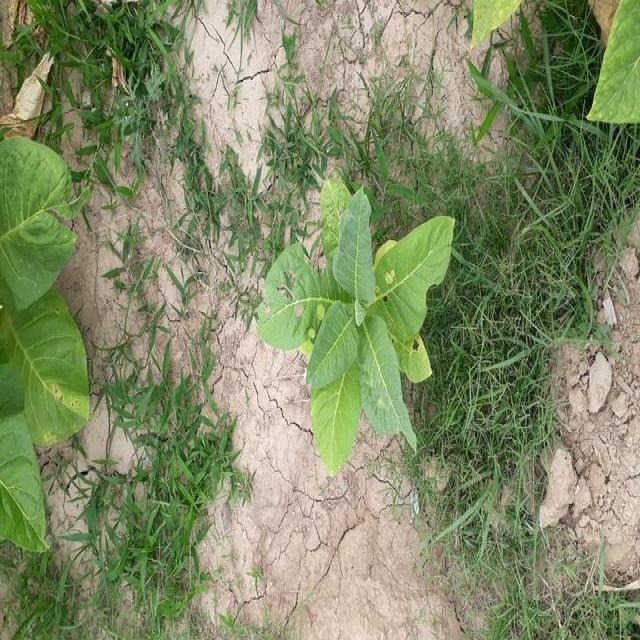crop: (270, 175, 458, 482), (2, 138, 82, 550), (594, 0, 638, 124), (463, 0, 519, 53)
